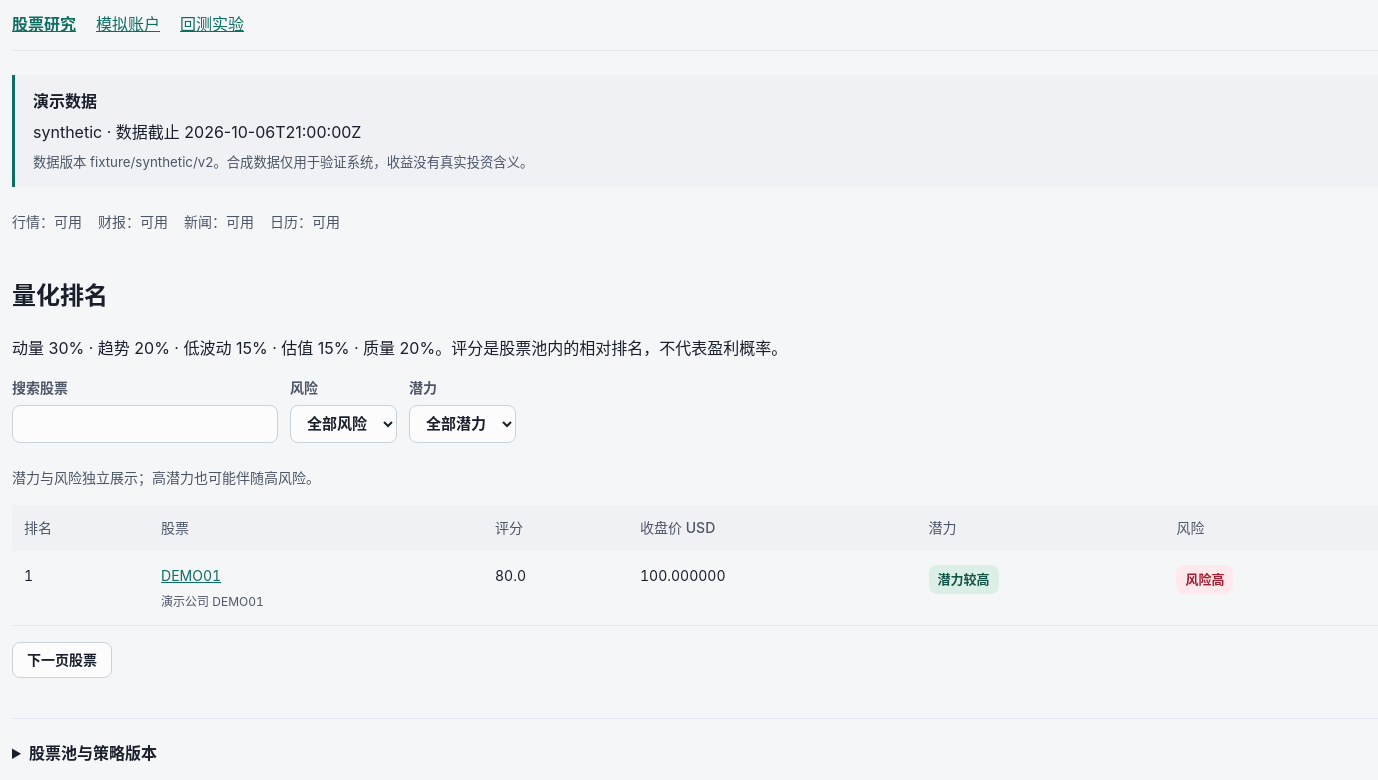
it: walks back to the previous ranking page
This screenshot has width=1378, height=780.
Expected: the link "DEMO01" is shown, 161,568 -> 221,584
Click the button "下一页股票" at (62, 660), box 12,642 -> 112,678
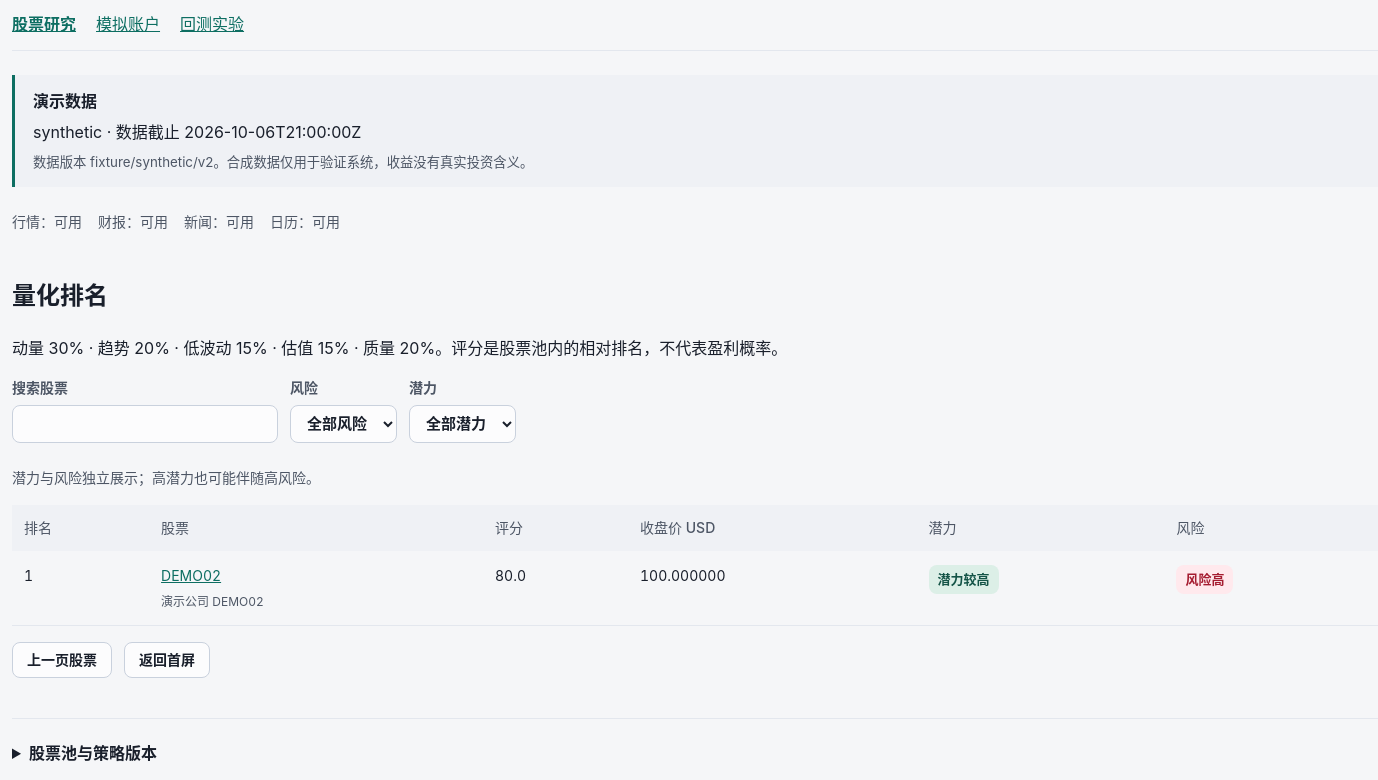
Now the link "DEMO02" is shown, box 161,568 -> 221,584
Now the link "DEMO01" is gone
Click the button "上一页股票" at (62, 660), box 12,642 -> 112,678
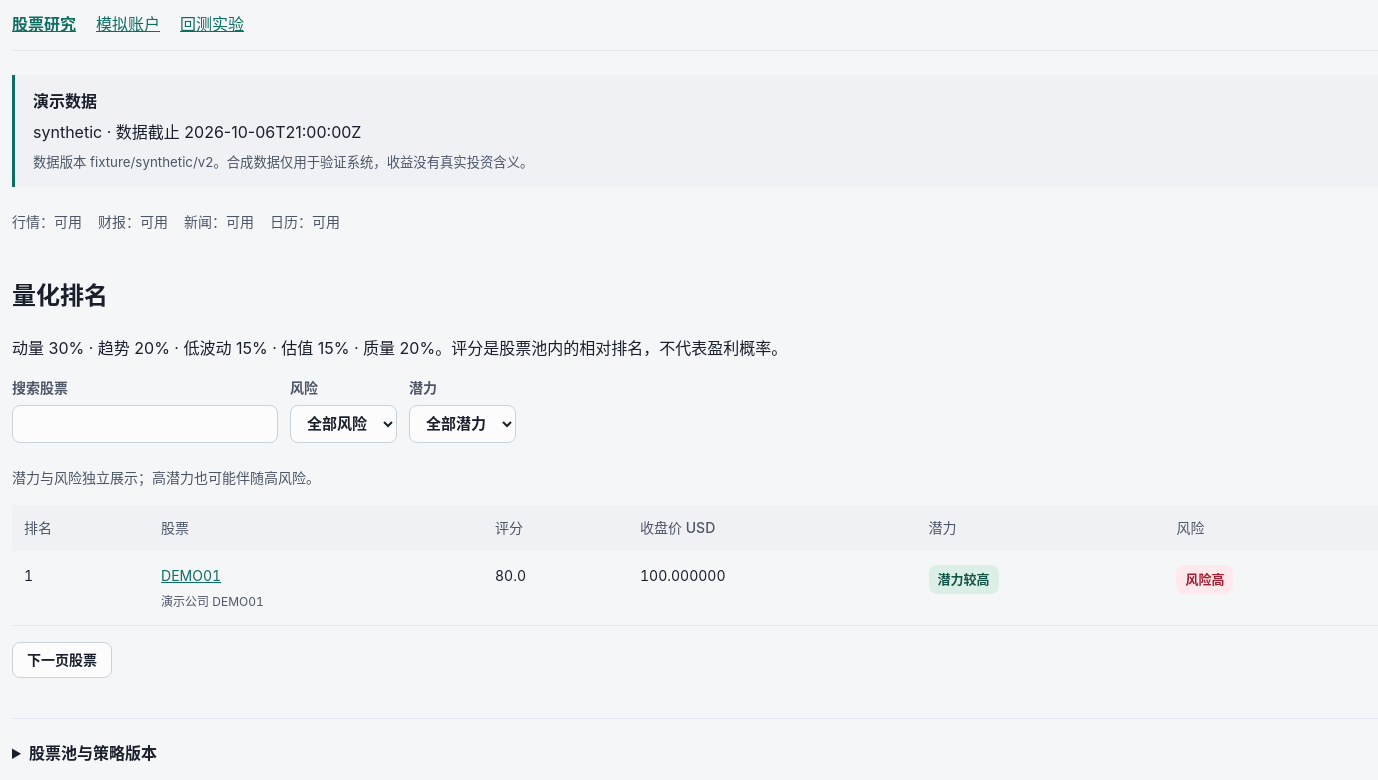
Now the link "DEMO01" is shown, box 161,568 -> 221,584
